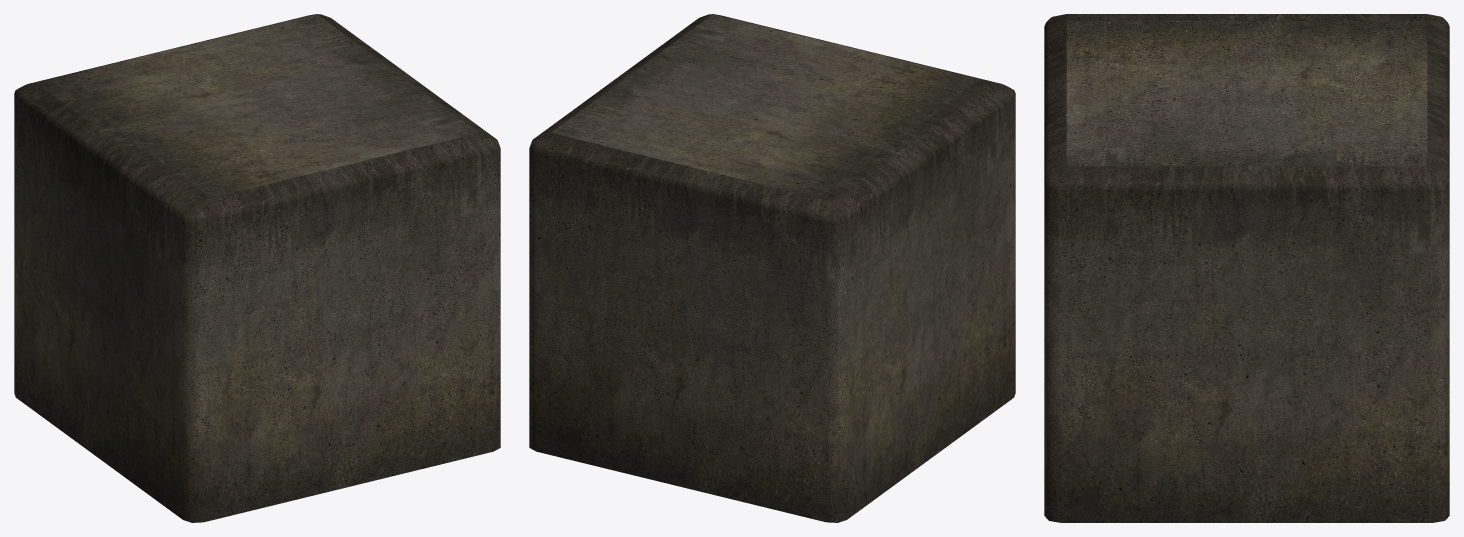
Rendered from wall_base_pillar_large.fbx.
3 renders of one model, left to right at view 1: azimuth 30°, elevation 25°; view 2: azimuth 150°, elevation 25°; view 3: azimuth 270°, elevation 25°, orthographic. The views are drawn at different scales.
Parts seen in each view (by area): view 1: wall_base_pillar_large; view 2: wall_base_pillar_large; view 3: wall_base_pillar_large.
Part boxes in pixels (x1,y1,x2,y2): wall_base_pillar_large: [14, 14, 500, 522]; wall_base_pillar_large: [529, 14, 1015, 522]; wall_base_pillar_large: [1044, 14, 1449, 522].
Size of the model in its own units: 0.72 by 0.68 by 0.72.
